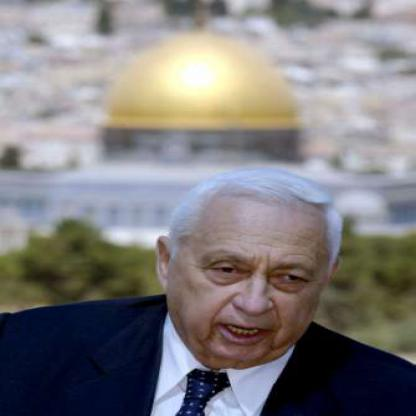face: (174, 179, 335, 366)
